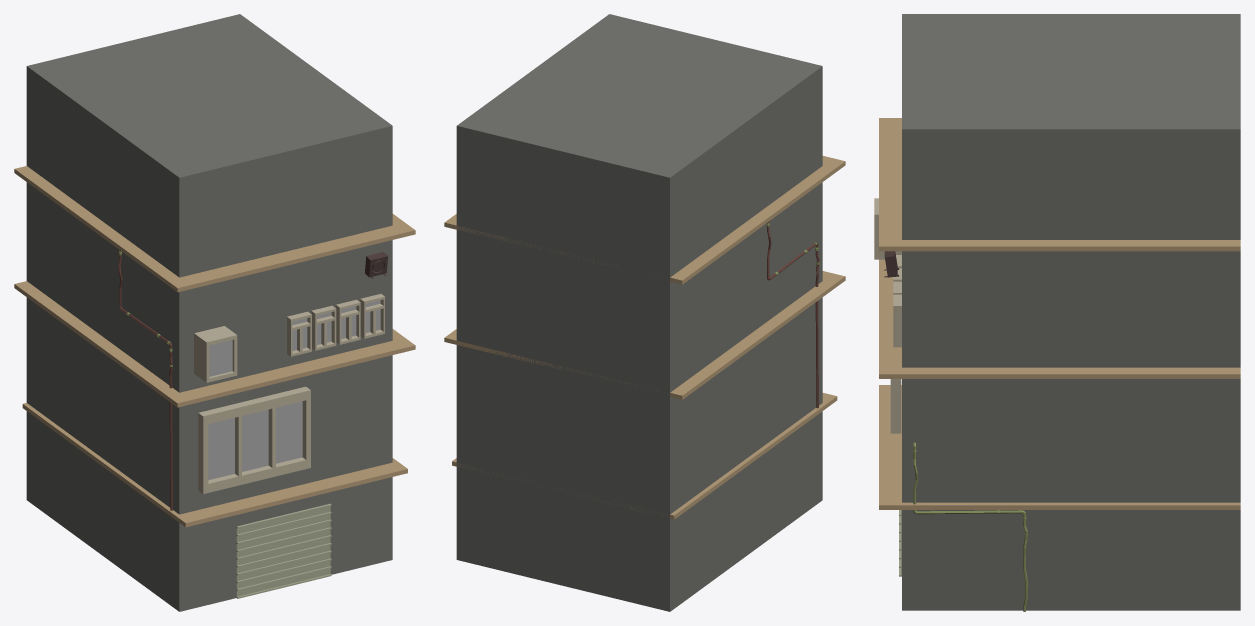
Rendered from Building_02.fbx.
3 renders of one model, left to right at view 1: azimuth 30°, elevation 25°; view 2: azimuth 150°, elevation 25°; view 3: azimuth 270°, elevation 25°, orthographic. The views are drawn at different scales.
Parts seen in each view (by area): view 1: polySurface753, polySurface748, polySurface766, polySurface849, polySurface850, polySurface886; view 2: polySurface753, polySurface748; view 3: polySurface753, polySurface748, polySurface850, polySurface766, polySurface872.
Part boxes in pixels (left/top/right/bottom): polySurface753: left=26, top=14, right=392, bottom=611; polySurface748: left=14, top=166, right=415, bottom=527; polySurface766: left=198, top=386, right=310, bottom=494; polySurface849: left=236, top=503, right=331, bottom=598; polySurface850: left=287, top=294, right=384, bottom=356; polySurface886: left=194, top=326, right=237, bottom=382; polySurface753: left=456, top=14, right=822, bottom=611; polySurface748: left=444, top=156, right=845, bottom=519; polySurface753: left=902, top=14, right=1240, bottom=610; polySurface748: left=879, top=118, right=1240, bottom=509; polySurface850: left=893, top=255, right=901, bottom=347; polySurface766: left=890, top=379, right=901, bottom=433; polySurface872: left=913, top=442, right=1019, bottom=514.
Bounding box in the file's own units: 65.38 × 114 × 78.64.
